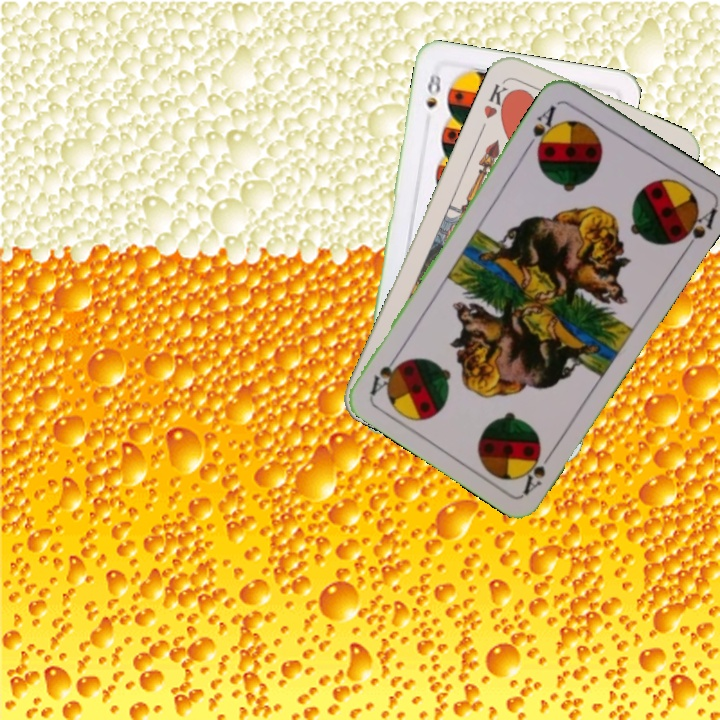HK: (479, 75, 516, 121)
S8: (422, 69, 444, 111)
SA: (517, 443, 558, 497), (523, 101, 561, 156)
